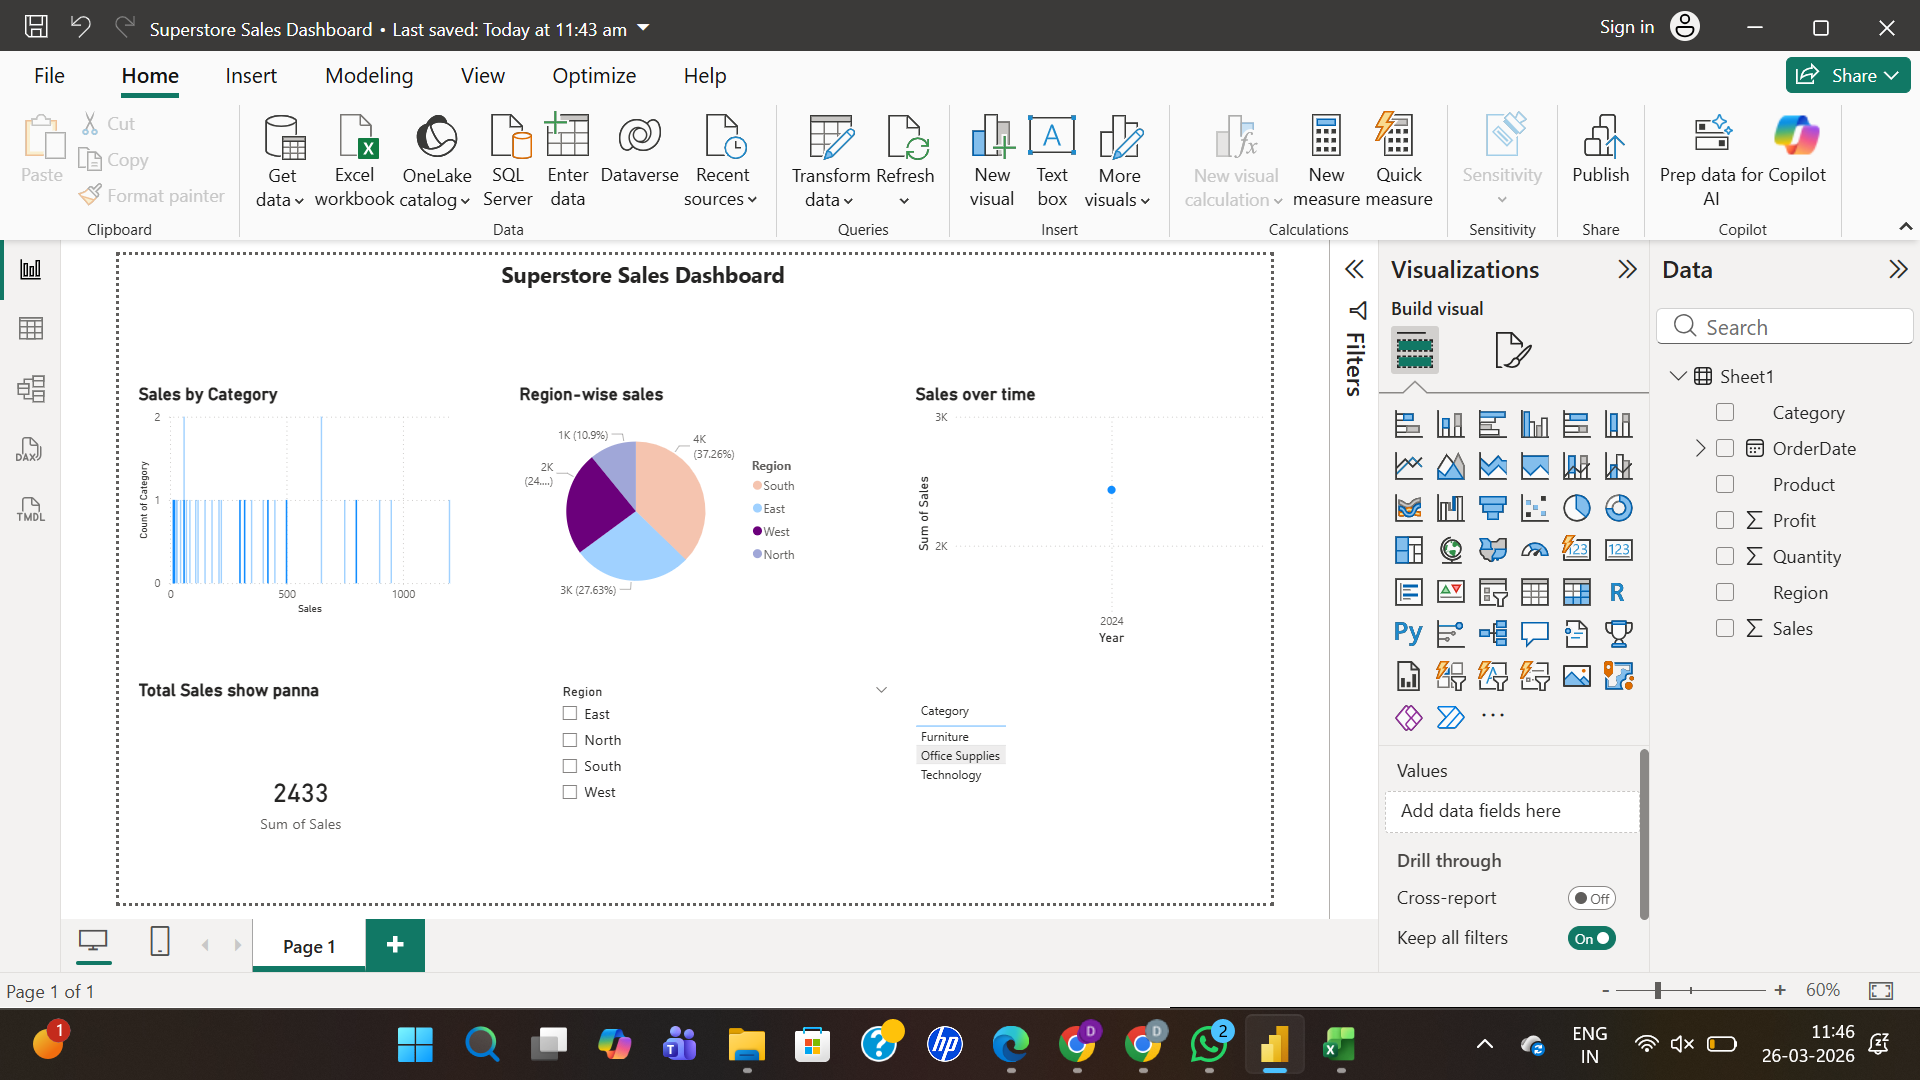

This screenshot's page, from the dashboard's own definition file:
{"tool":"powerbi","page":{"name":"Page 1","canvas":[1280,720],"ordinal":0},"visuals":[{"type":"clusteredColumnChart","title":"Sales by Category","fields":{"Category":["Sheet1.Sales"],"Y":["CountNonNull(Sheet1.Category)"]},"box":[16,144,370,260],"z":0},{"type":"pieChart","title":"Region-wise sales","fields":{"Category":["Sheet1.Region"],"Y":["Sum(Sheet1.Sales)"]},"box":[440,144,332,260],"z":1},{"type":"lineChart","title":"Sales over time","fields":{"Category":["Sheet1.OrderDate.Variation.Date Hierarchy.Year","Sheet1.OrderDate.Variation.Date Hierarchy.Quarter","Sheet1.OrderDate.Variation.Date Hierarchy.Month","Sheet1.OrderDate.Variation.Date Hierarchy.Day"],"Y":["Sum(Sheet1.Sales)"]},"box":[880,144,400,294],"z":2},{"type":"card","title":"Total Sales show panna","fields":{"Values":["Sum(Sheet1.Sales)"]},"box":[16,472,370,248],"z":3},{"type":"slicer","fields":{"Values":["Sheet1.Region"]},"box":[480,472,386,248],"z":4},{"type":"tableEx","fields":{"Values":["Sheet1.Category"]},"box":[880,490,370,230],"z":5},{"type":"textbox","box":[420,0,332,50],"z":6}]}

Visuals, with their boxes on the page's 1280x720 design canvas (x1, y1, x2, y2). These are canvas units, not pixel positions in the 1920x1080 screenshot, which may show the page scaled, cropped or inside an application window:
"Sales by Category" clusteredColumnChart: 16/144/386/404
"Region-wise sales" pieChart: 440/144/772/404
"Sales over time" lineChart: 880/144/1280/438
"Total Sales show panna" card: 16/472/386/720
slicer - Sheet1.Region: 480/472/866/720
tableEx - Sheet1.Category: 880/490/1250/720
textbox: 420/0/752/50
